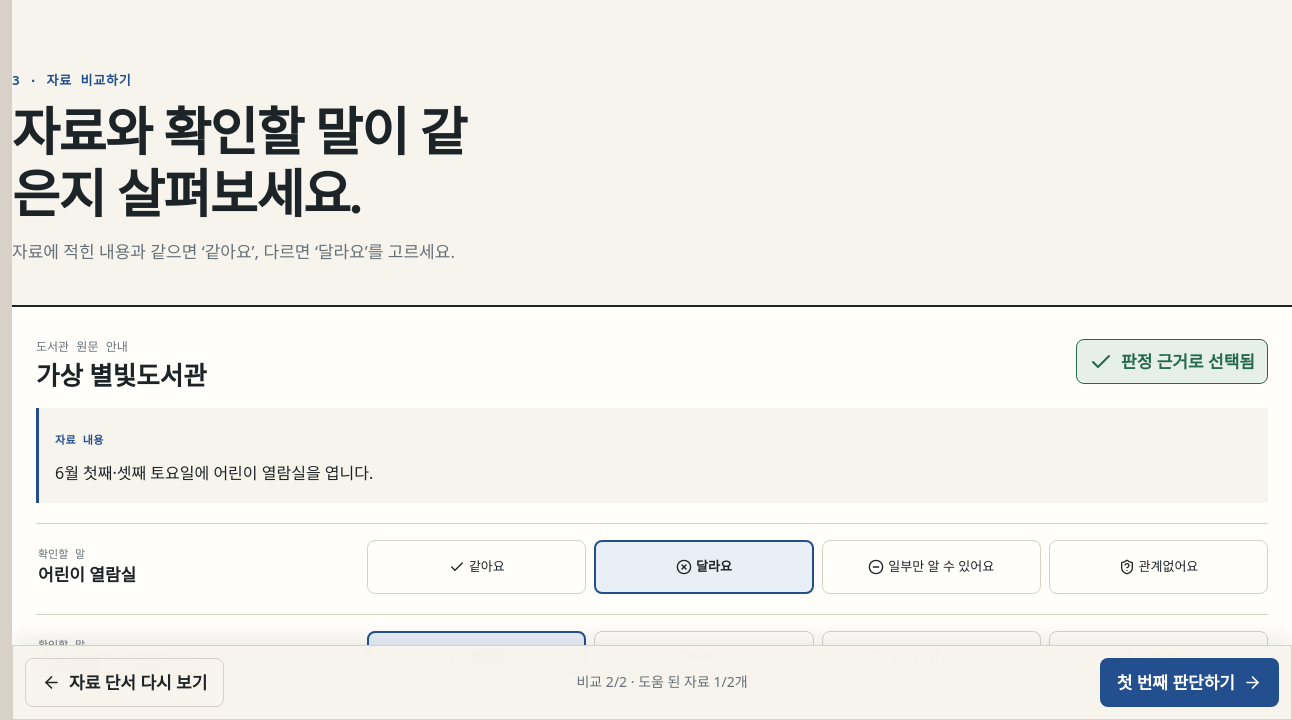
Test: EvidenceBoard › points to a mismatched row before moving to the verdict
Click the button "첫 번째 판단하기": [1189, 682] box [1100, 658, 1279, 707]
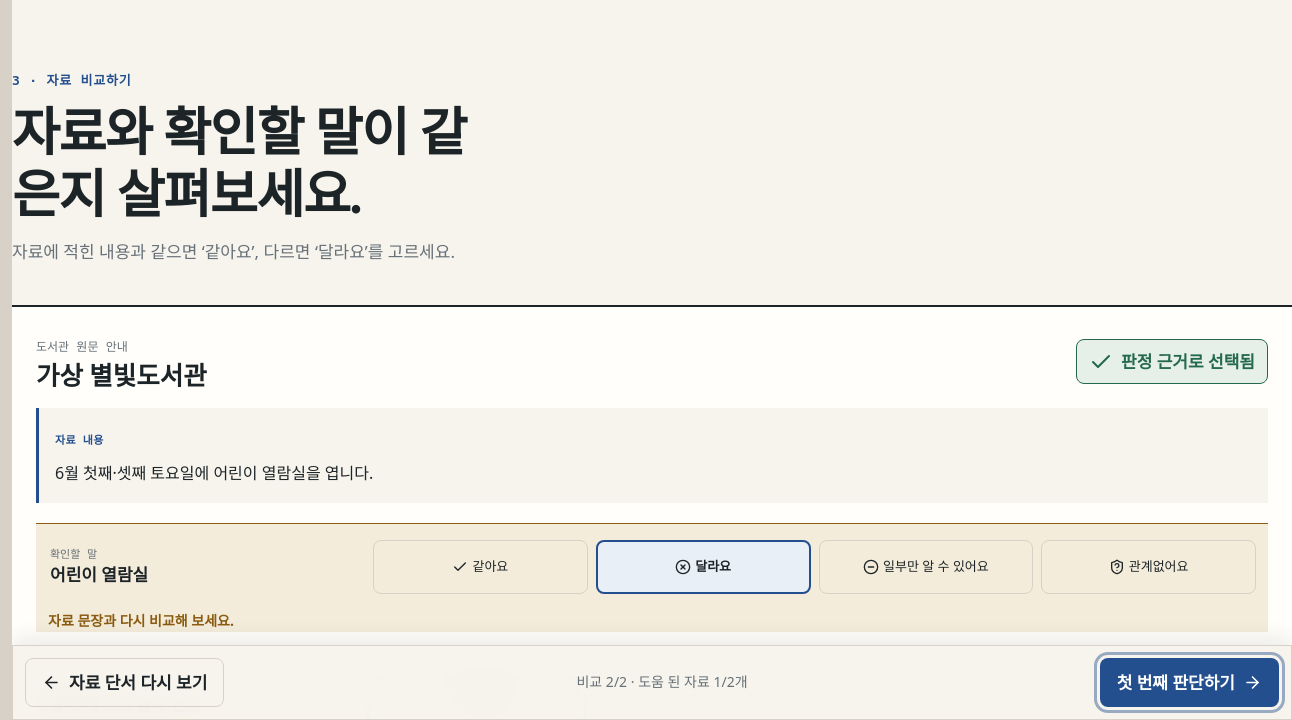
expect the text "자료 문장과 다시 비교해 보세요." is shown: met, box [48, 611, 234, 630]
